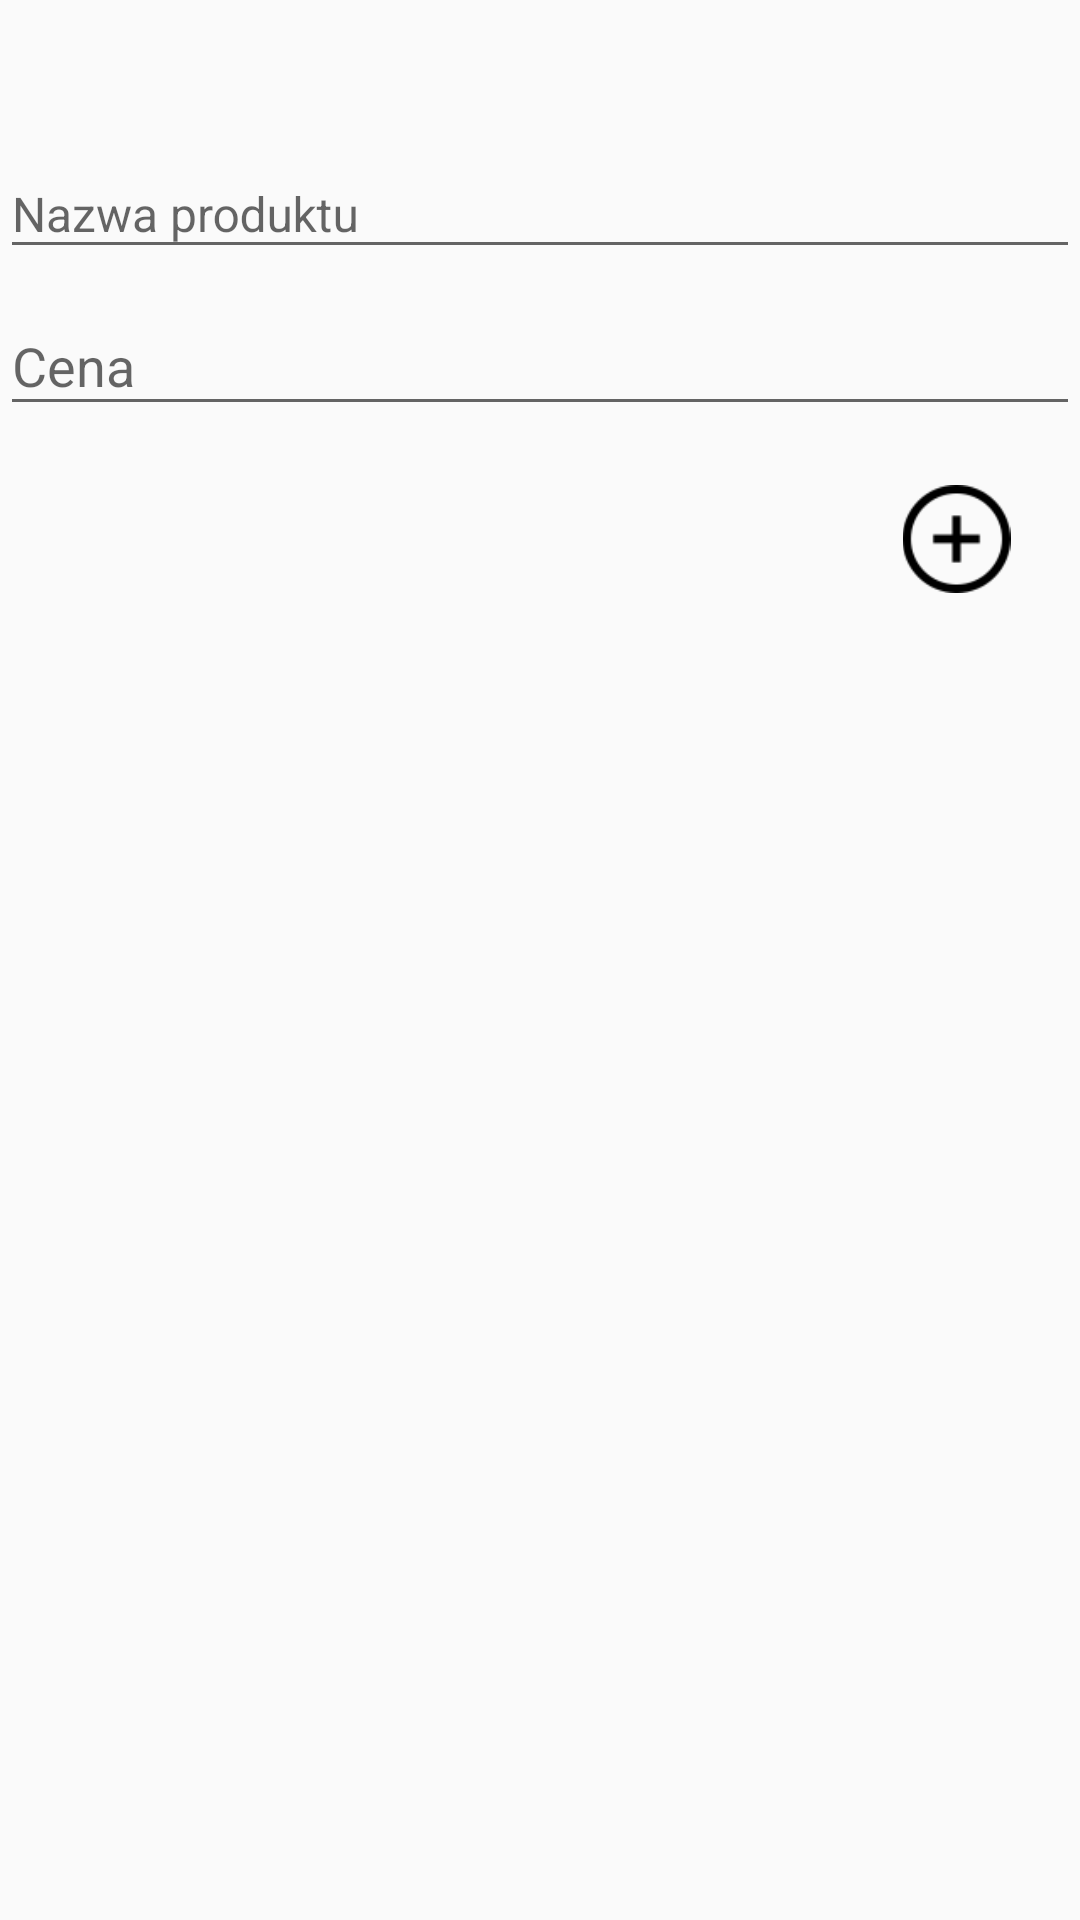

Where icons sit on this 1080w x 1920h app screen, as Rect(x1, y1, x2, y2):
plus: Rect(903, 485, 1011, 593)
